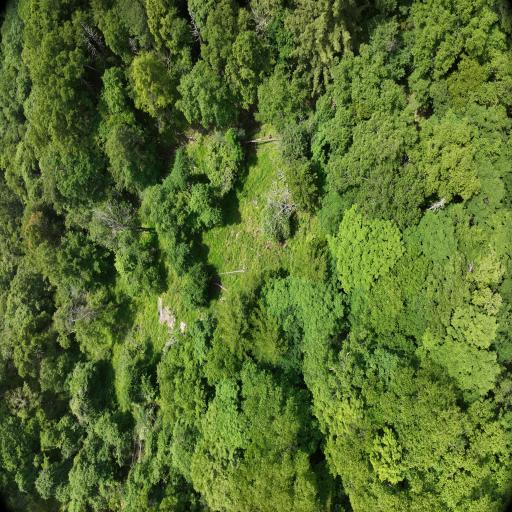dead-tree: (78, 195, 143, 246), (62, 294, 111, 337), (78, 21, 116, 64), (266, 180, 300, 221), (245, 0, 274, 46), (186, 0, 210, 46), (6, 385, 41, 416), (427, 194, 448, 213), (6, 346, 16, 371), (1, 325, 15, 338), (31, 347, 44, 358)
